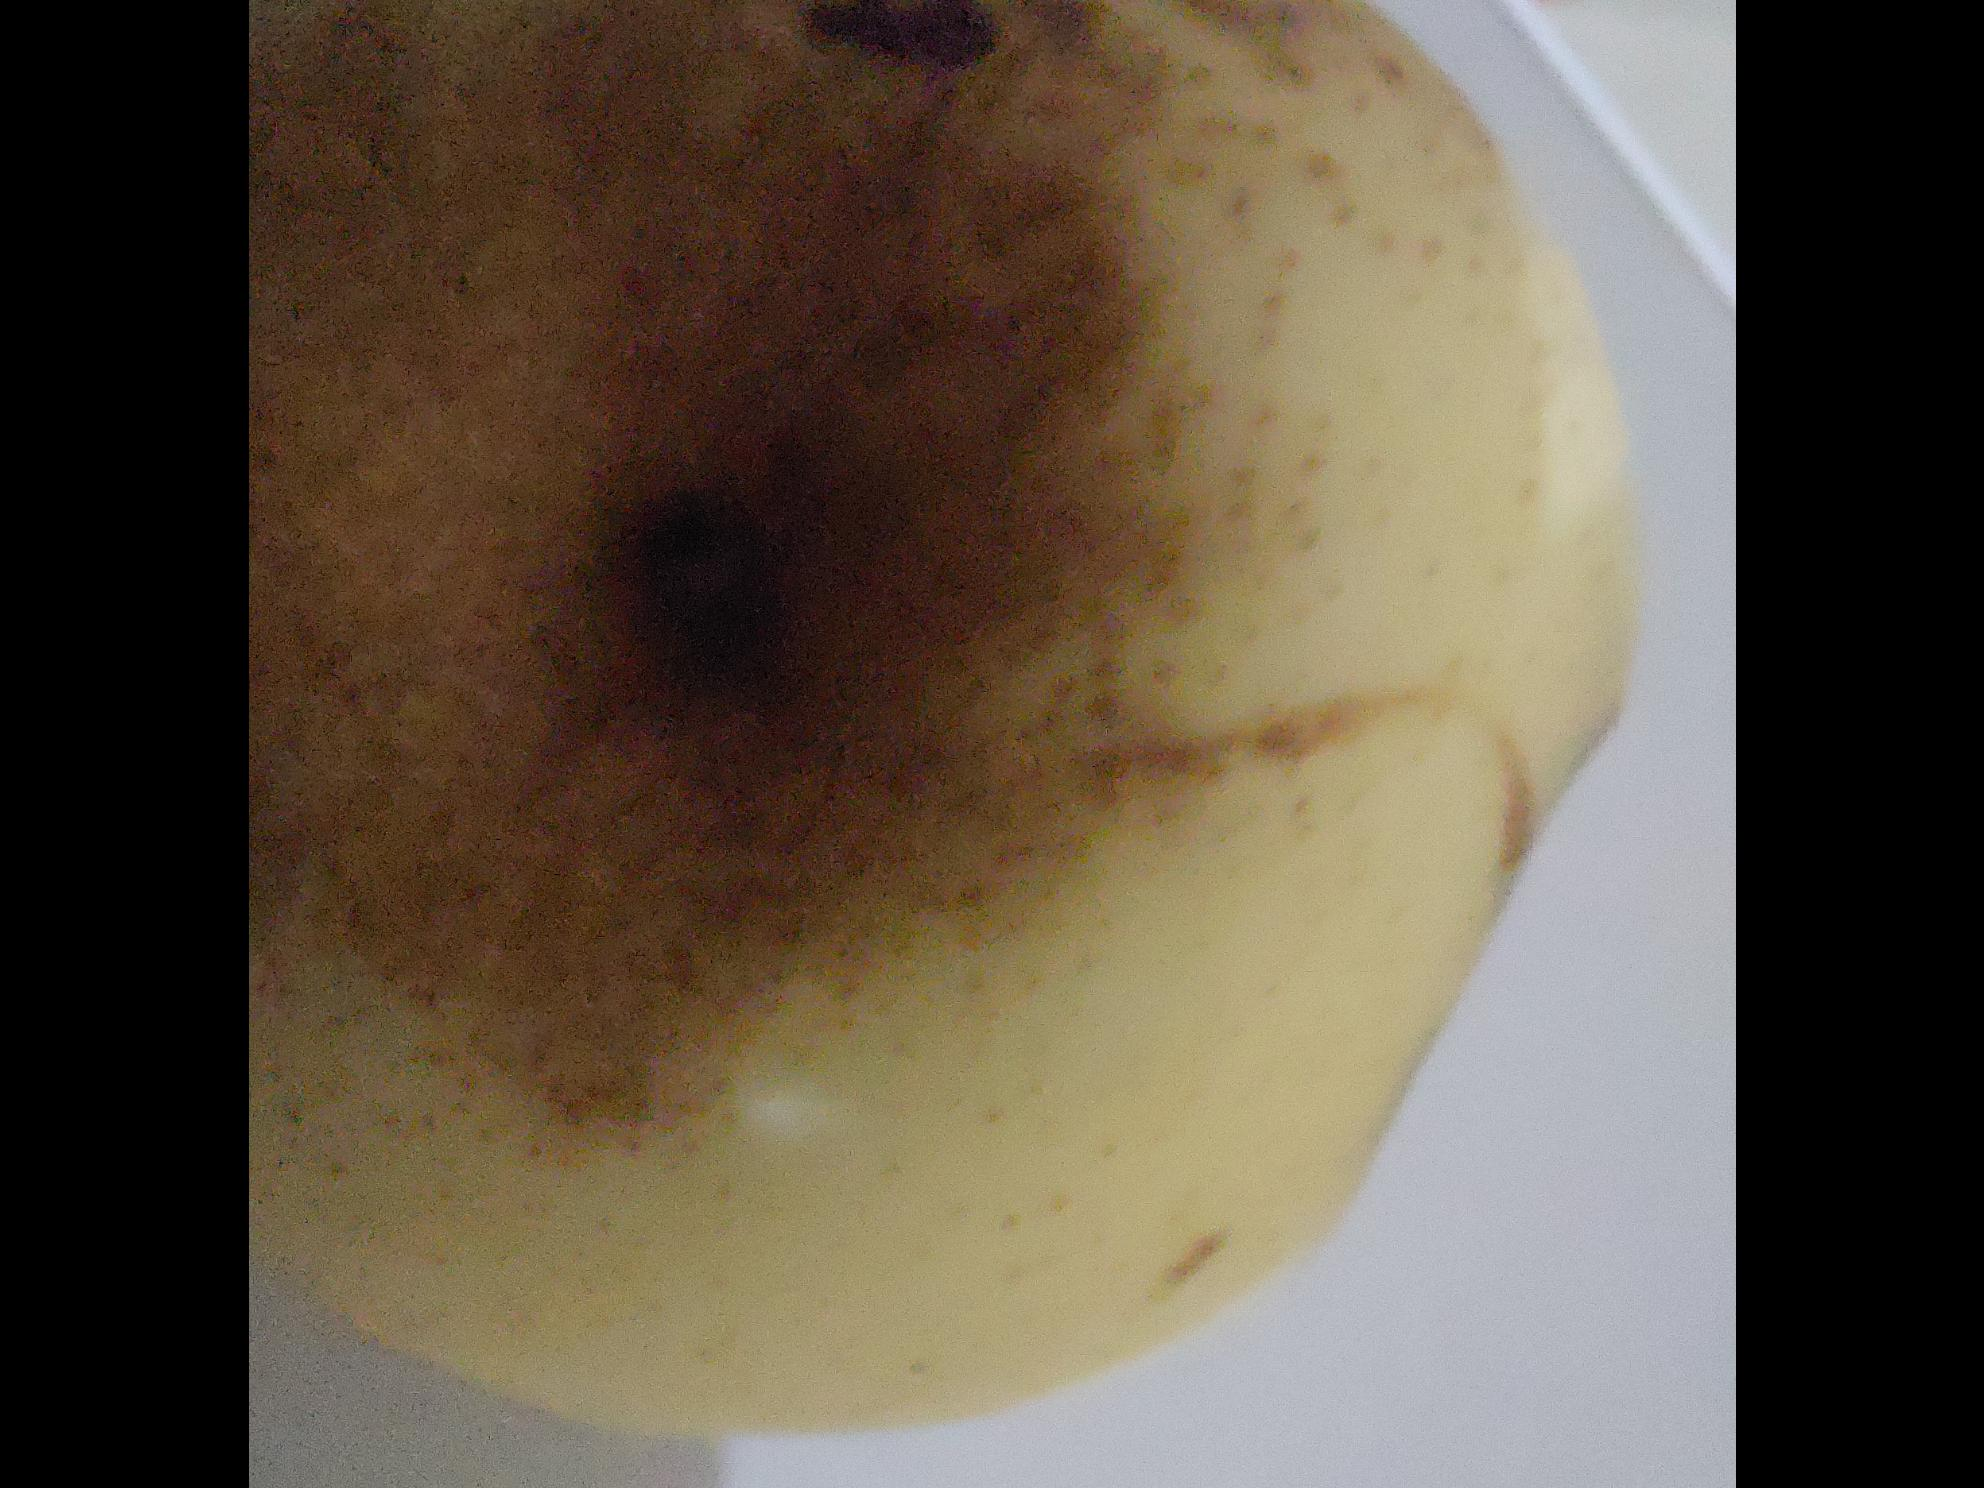Bad Pear: (248, 0, 1651, 1436)
